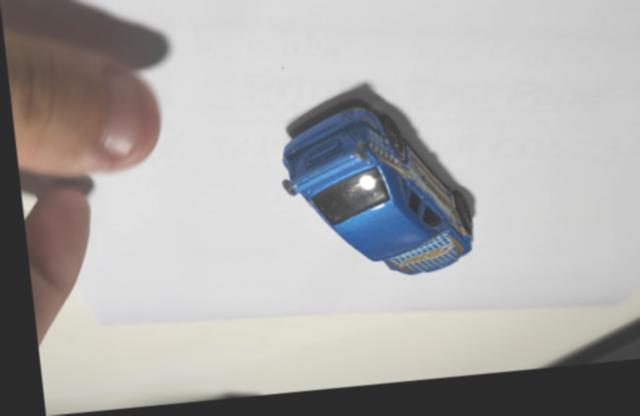04_MERZEDES: (277, 109, 471, 282)
